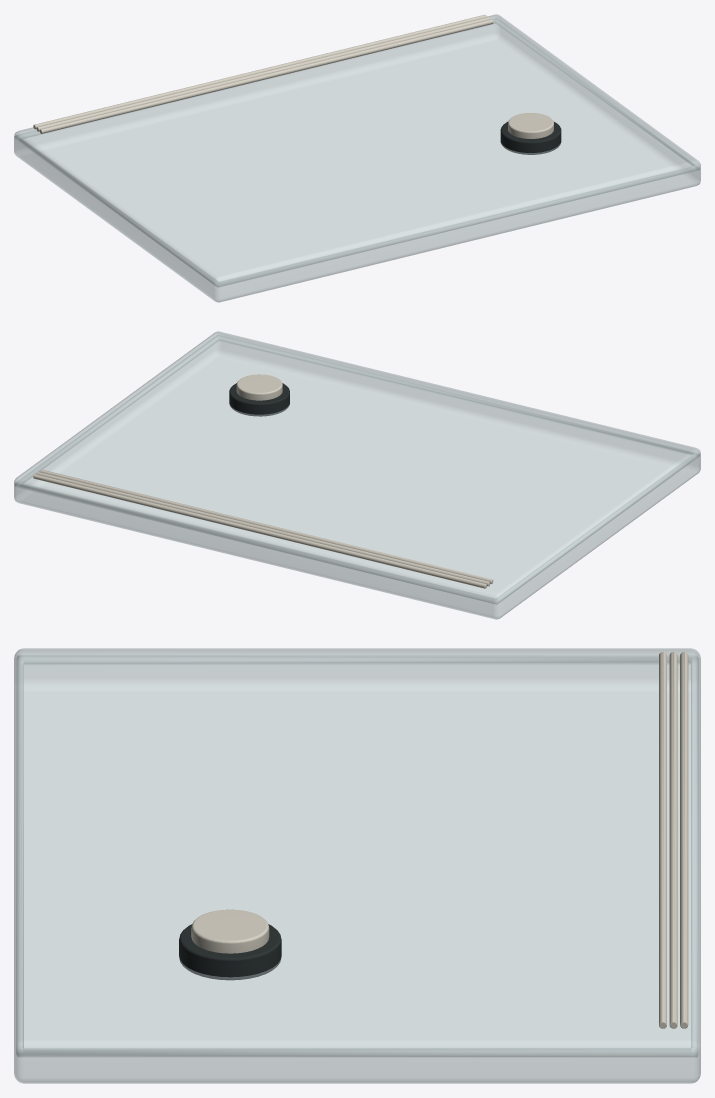
Rendered from investigation-sealed-storage-pouch.glb.
The picture shows the model from 3 angles, top to bottom: view 1: azimuth 30°, elevation 25°; view 2: azimuth 150°, elevation 25°; view 3: azimuth 270°, elevation 25°; orthographic projection. The views are drawn at different scales.
Visible parts, largest first — view 1: Gusseted clear vacuum pouch, Heat-sealed pouch border, Ribbed press-to-close zipper, Ribbed press-to-close zipper.001, Ribbed press-to-close zipper.002, Vacuum extraction valve, Valve screw cap; view 2: Gusseted clear vacuum pouch, Heat-sealed pouch border, Ribbed press-to-close zipper.002, Ribbed press-to-close zipper.001, Ribbed press-to-close zipper, Vacuum extraction valve, Valve screw cap; view 3: Gusseted clear vacuum pouch, Heat-sealed pouch border, Ribbed press-to-close zipper.001, Ribbed press-to-close zipper.002, Vacuum extraction valve, Ribbed press-to-close zipper, Valve screw cap.
Boxes of the visible parts, x1,y1,x2,y2 form: Gusseted clear vacuum pouch: (14,14,700,302); Heat-sealed pouch border: (15,18,699,287); Ribbed press-to-close zipper: (39,19,493,133); Ribbed press-to-close zipper.001: (36,17,489,131); Ribbed press-to-close zipper.002: (33,14,486,129); Vacuum extraction valve: (500,121,561,154); Valve screw cap: (508,113,553,138); Gusseted clear vacuum pouch: (14,331,700,619); Heat-sealed pouch border: (15,335,699,604); Ribbed press-to-close zipper.002: (33,474,486,588); Ribbed press-to-close zipper.001: (36,471,490,586); Ribbed press-to-close zipper: (39,469,493,583); Vacuum extraction valve: (229,383,289,416); Valve screw cap: (236,374,282,400); Gusseted clear vacuum pouch: (14,648,700,1083); Heat-sealed pouch border: (16,655,698,1056); Ribbed press-to-close zipper.001: (669,652,677,1028); Ribbed press-to-close zipper.002: (680,652,688,1028); Vacuum extraction valve: (179,924,281,980); Ribbed press-to-close zipper: (659,652,666,1028); Valve screw cap: (191,909,269,953).
Size of the model in its own units: 0.535 by 0.046 by 0.389.
3 materials, 3 textured.
